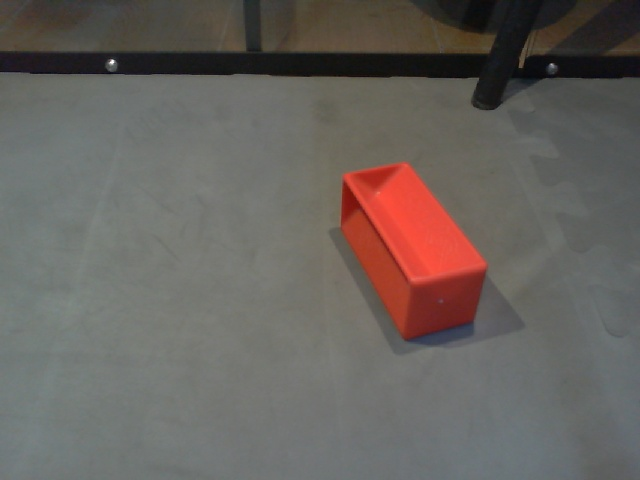RedSample: (335, 160, 489, 344)
